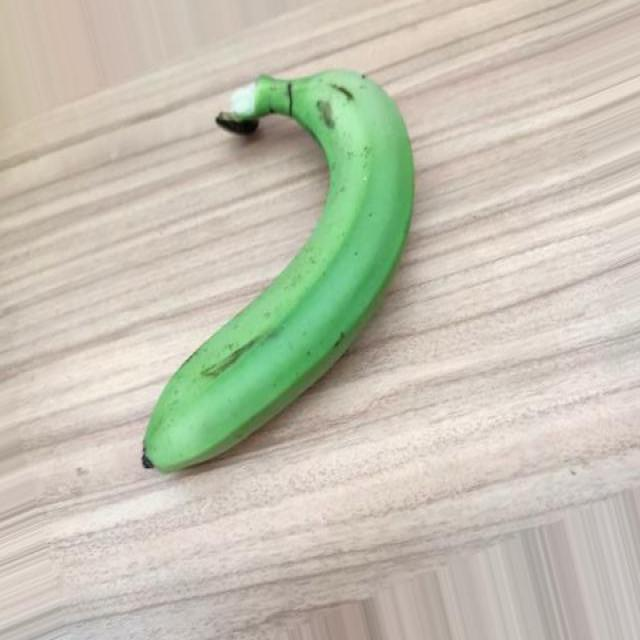Unripe: (139, 68, 416, 473)
